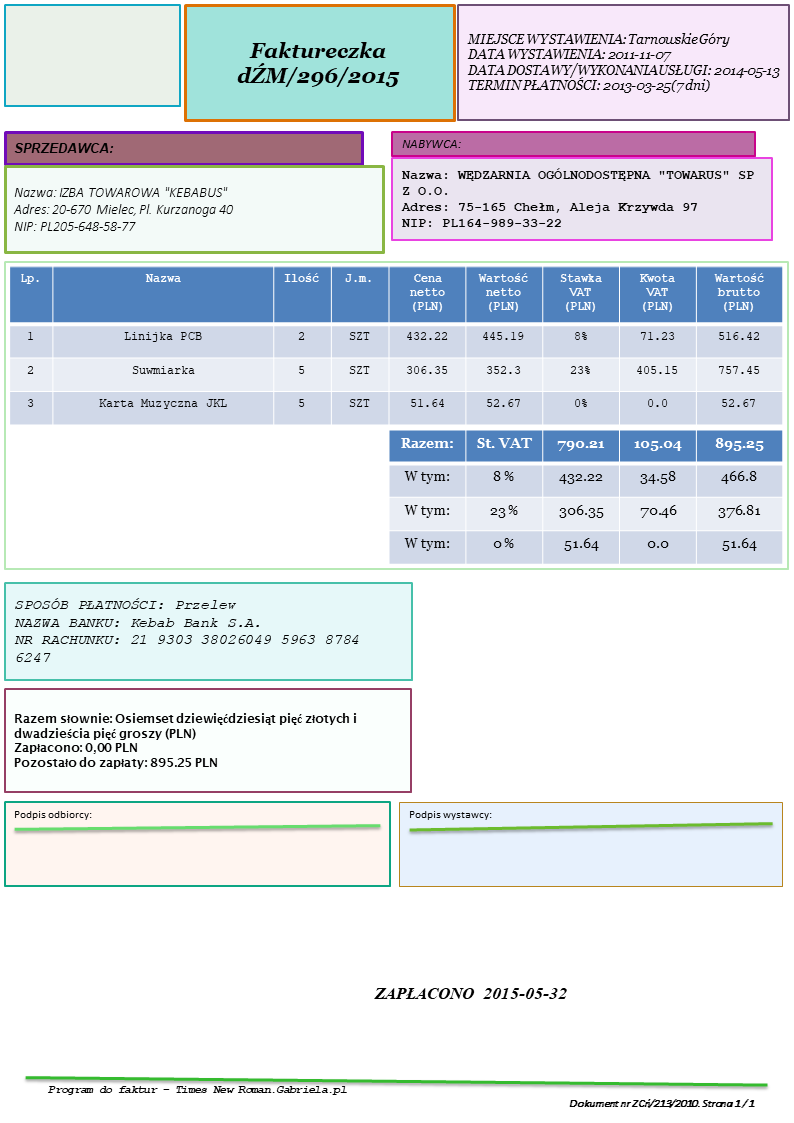Table: (8, 264, 784, 427), (388, 427, 784, 565)
TextBox: (12, 594, 363, 667), (398, 165, 756, 231), (11, 709, 360, 770), (465, 30, 782, 94), (11, 183, 236, 235), (233, 38, 405, 93), (44, 1082, 348, 1100), (371, 982, 569, 1004), (567, 1096, 758, 1111), (10, 138, 116, 158), (11, 806, 94, 823), (406, 807, 493, 823), (399, 135, 462, 153)
